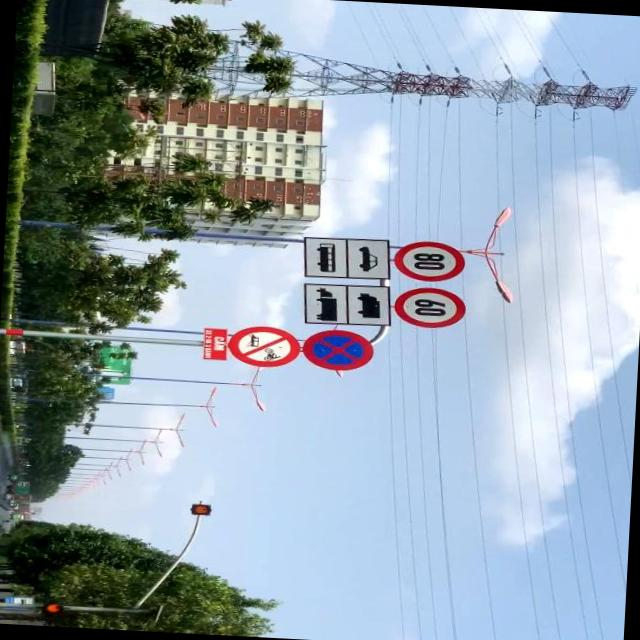P-104: (225, 324, 299, 368)
P-127: (392, 238, 467, 284), (391, 287, 465, 328)
P-130: (300, 329, 376, 370)
